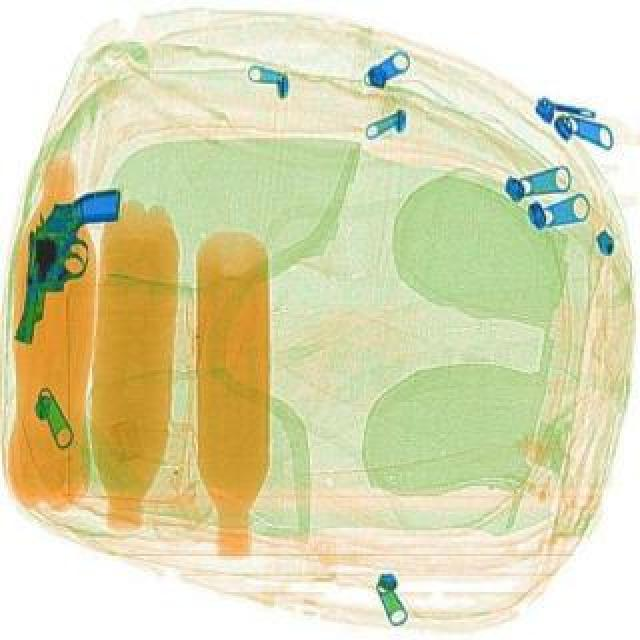gun: (8, 172, 124, 356)
